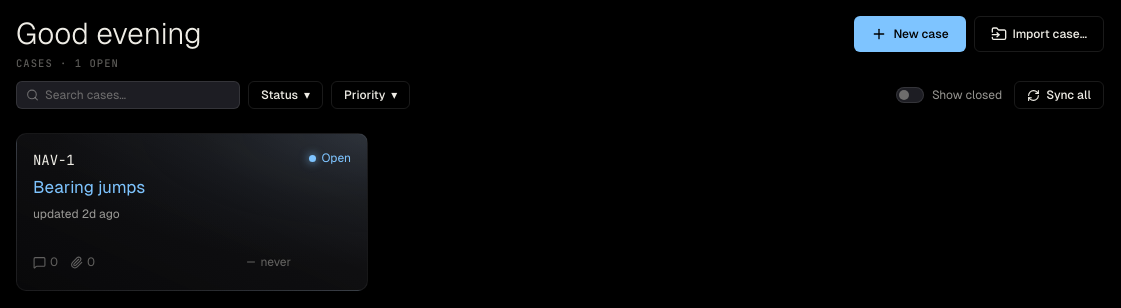
Test case: CaseDashboard triage › runs a bulk sync and reports the result
Click the button "Sync all" at (1059, 95), box [1014,81,1104,109]
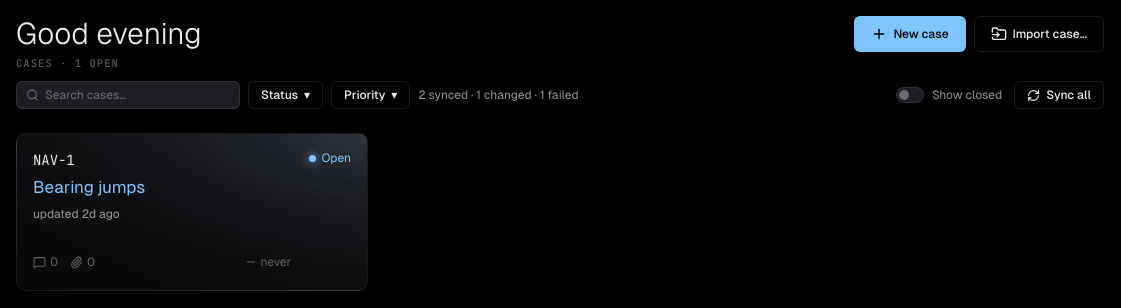
Check: the text "2 synced · 1 changed · 1 failed" is shown, box [418,87,579,103]
